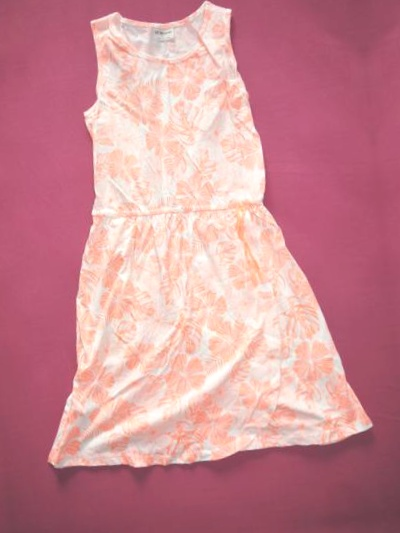Dress: (0, 0, 377, 485), (386, 0, 400, 445)
